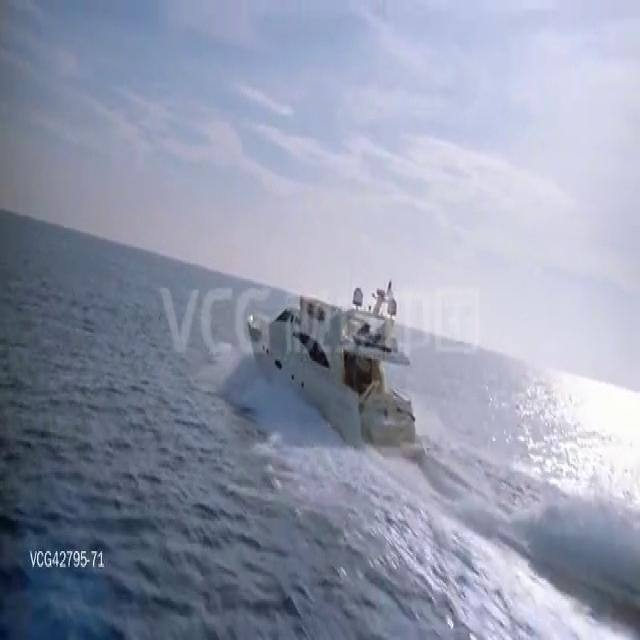houseboat: (247, 284, 418, 461)
